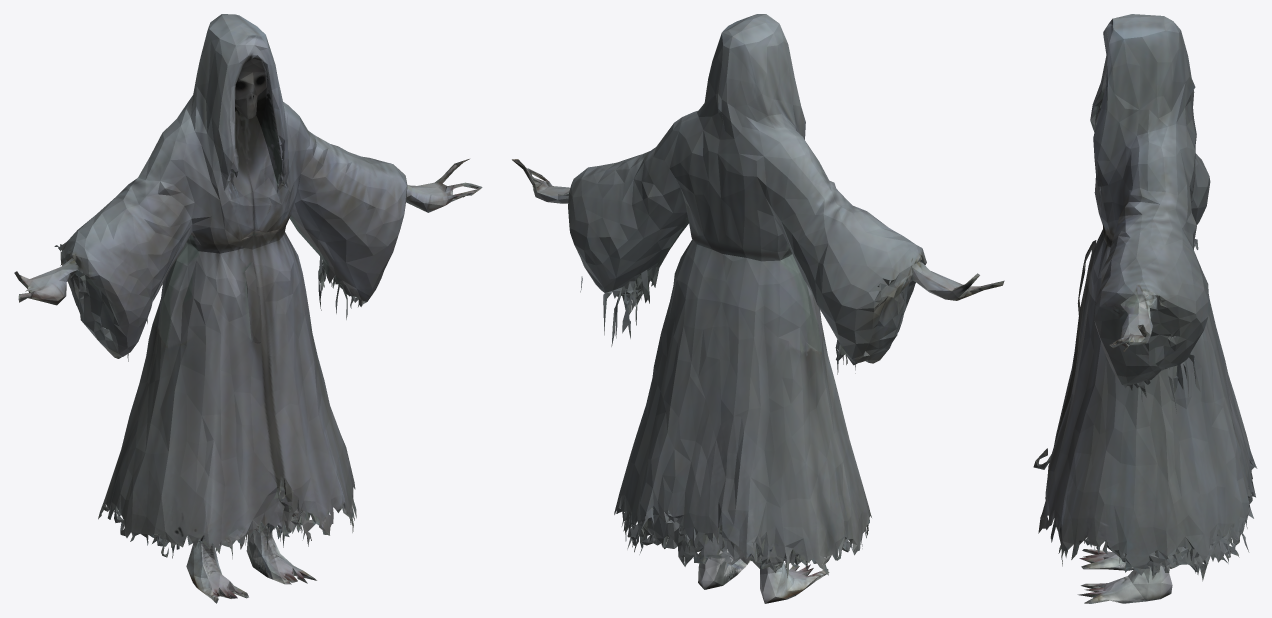
Rendered from Ghost_character_from__0425004120_texture.fbx.
3 renders of one model, left to right at view 1: azimuth 30°, elevation 25°; view 2: azimuth 150°, elevation 25°; view 3: azimuth 270°, elevation 25°, orthographic. The views are drawn at different scales.
Visible parts, largest first — view 1: temp; view 2: temp; view 3: temp.
Part boxes in pixels (x1,y1,x2,y2): temp: (14, 14, 482, 603); temp: (512, 14, 1004, 603); temp: (1033, 14, 1257, 603).
Size of the model in its own units: 176 by 199 by 71.81.
1 material, 1 textured.
